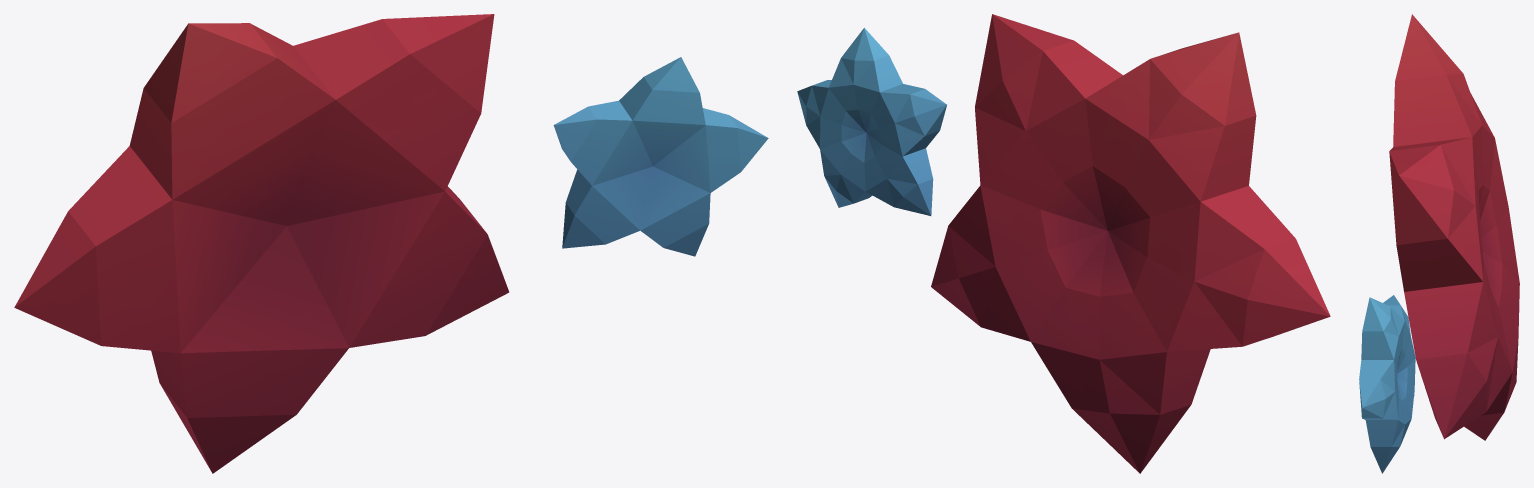
Rendered from Starfish_01.FBX.
3 views of the same model, side by side, from view 1: azimuth 30°, elevation 25°; view 2: azimuth 150°, elevation 25°; view 3: azimuth 270°, elevation 25° (orthographic). The views are drawn at different scales.
Visible parts, largest first — view 1: Starfish_01; view 2: Starfish_01; view 3: Starfish_01.
Part boxes in pixels (box(x1,y1,x2,y2)): Starfish_01: box(14, 14, 768, 473); Starfish_01: box(797, 14, 1330, 473); Starfish_01: box(1359, 14, 1519, 473).
Bounding box in the file's own units: 2.85 × 1.98 × 0.7201.
